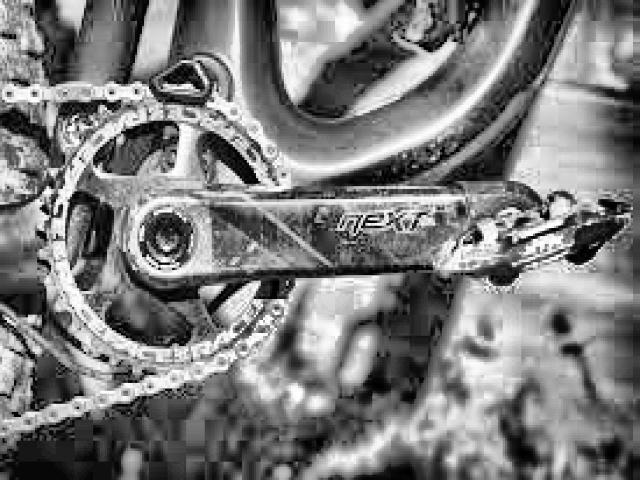cranks_set: (35, 92, 539, 380)
pedal: (430, 185, 630, 295)
